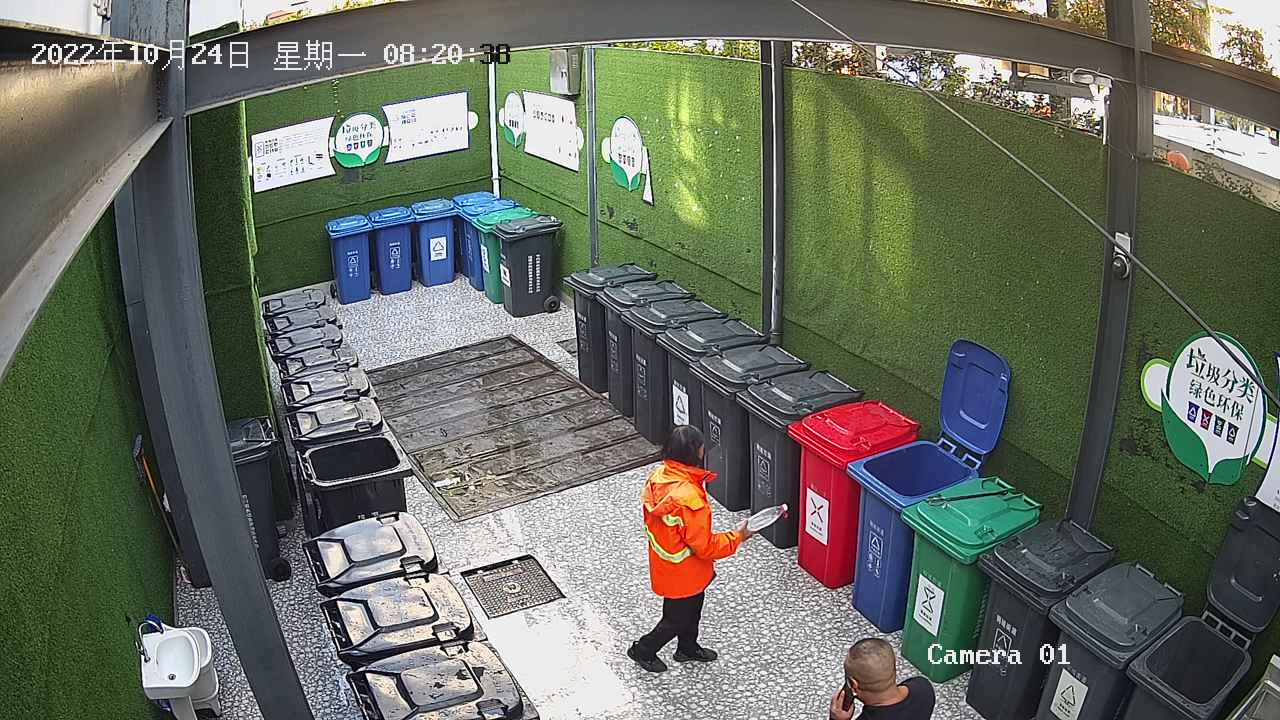person: (817, 631, 942, 720)
suliaozhipin: (732, 499, 794, 538)
worker: (624, 421, 760, 678)
